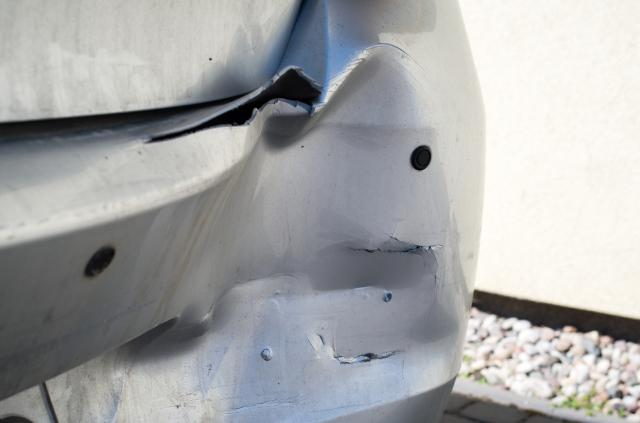crack: (139, 66, 327, 146)
dent: (119, 52, 461, 411)
